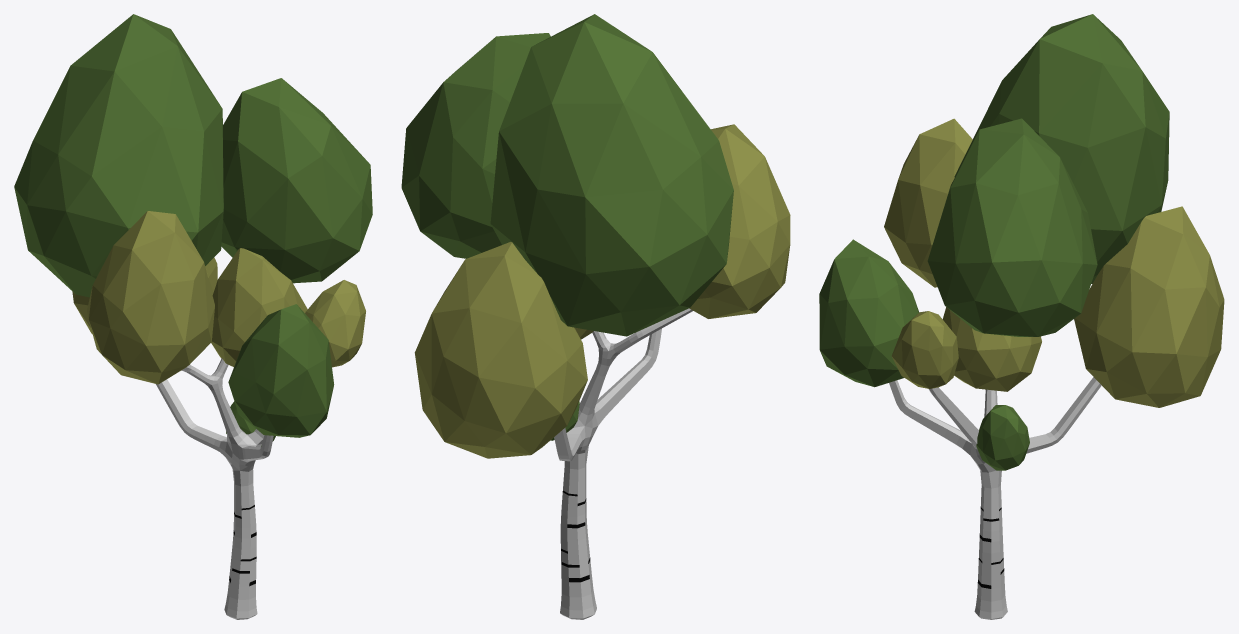
File: bereza.fbx
3 views of the same model, side by side, from view 1: azimuth 30°, elevation 25°; view 2: azimuth 150°, elevation 25°; view 3: azimuth 270°, elevation 25° (orthographic). The views are drawn at different scales.
Visible parts, largest first — view 1: Icosphere.016, Icosphere.009, Icosphere.015, Icosphere.013, Icosphere.003, Icosphere.014, Icosphere.012, Icosphere.007; view 2: Icosphere.016, Icosphere.007, Icosphere.009, Icosphere.015, Icosphere.003; view 3: Icosphere.009, Icosphere.016, Icosphere.007, Icosphere.013, Icosphere.003, Icosphere.015, Icosphere.014, Icosphere.012, Icosphere.011.
Part boxes in pixels (bbox=[...]): Icosphere.016: bbox=[14, 14, 223, 297]; Icosphere.009: bbox=[221, 78, 372, 283]; Icosphere.015: bbox=[87, 211, 214, 384]; Icosphere.013: bbox=[228, 304, 334, 437]; Icosphere.003: bbox=[156, 358, 273, 619]; Icosphere.014: bbox=[211, 248, 307, 366]; Icosphere.012: bbox=[305, 280, 365, 367]; Icosphere.007: bbox=[72, 257, 217, 333]; Icosphere.016: bbox=[490, 14, 733, 336]; Icosphere.007: bbox=[414, 242, 587, 458]; Icosphere.009: bbox=[401, 33, 550, 258]; Icosphere.015: bbox=[689, 124, 790, 318]; Icosphere.003: bbox=[554, 308, 692, 619]; Icosphere.009: bbox=[927, 118, 1097, 336]; Icosphere.016: bbox=[954, 14, 1169, 283]; Icosphere.007: bbox=[1074, 206, 1224, 407]; Icosphere.013: bbox=[819, 239, 919, 387]; Icosphere.003: bbox=[889, 377, 1101, 619]; Icosphere.015: bbox=[884, 118, 972, 287]; Icosphere.014: bbox=[942, 307, 1041, 391]; Icosphere.012: bbox=[891, 311, 958, 388]; Icosphere.011: bbox=[976, 405, 1029, 470].
Size of the model in its own units: 768 by 1413 by 904.
